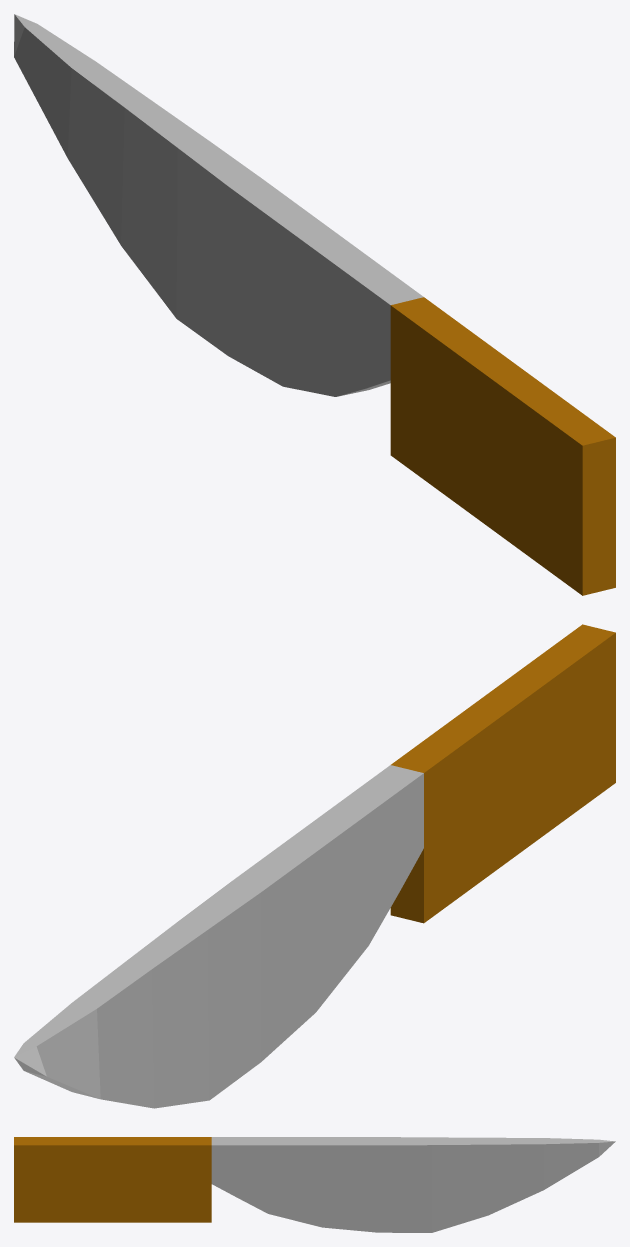
The model's file is knife.fbx.
The picture shows the model from 3 angles, top to bottom: view 1: azimuth 30°, elevation 25°; view 2: azimuth 150°, elevation 25°; view 3: azimuth 270°, elevation 25°; orthographic projection. The views are drawn at different scales.
Visible parts, largest first — view 1: Sphere; view 2: Sphere; view 3: Sphere.
Boxes of the visible parts, x1,y1,x2,y2 form: Sphere: (14,14,615,595); Sphere: (14,624,615,1108); Sphere: (14,1137,615,1232).
Bounding box in the file's own units: 36.02 × 176 × 1092.
